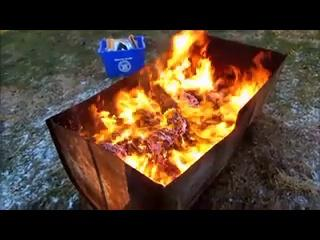fire: (96, 31, 268, 188)
